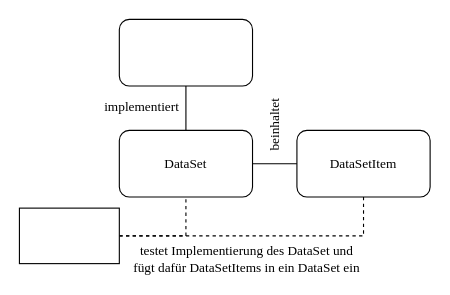
The diagram is 450 pixels wide and 295 high, and some of its shapes have lost their labels. The centre of each missing label's shape, as x and y in pixels:
DataSetInterface: the point at 185,52
Main: the point at 68,235
